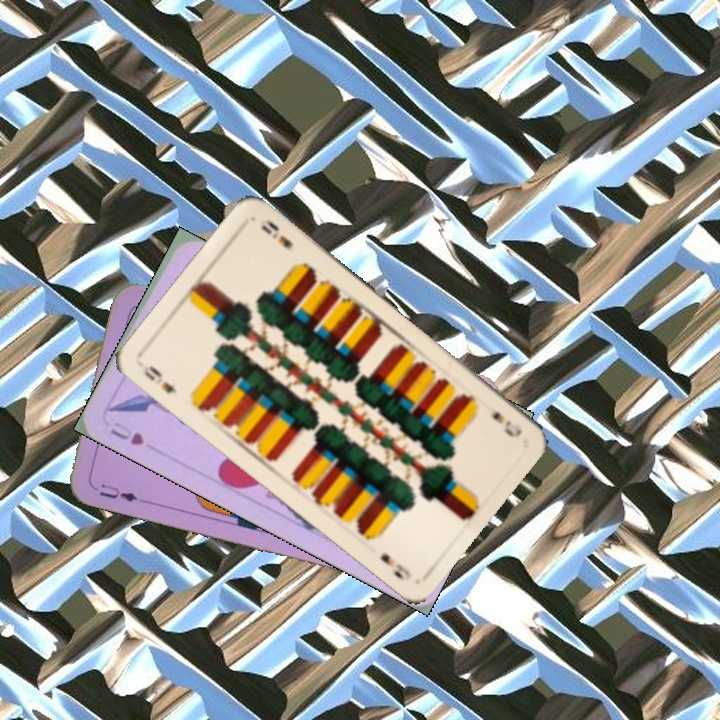E9: (139, 361, 179, 396), (488, 407, 525, 440)
EU: (95, 479, 147, 505)
HU: (106, 418, 147, 448)
